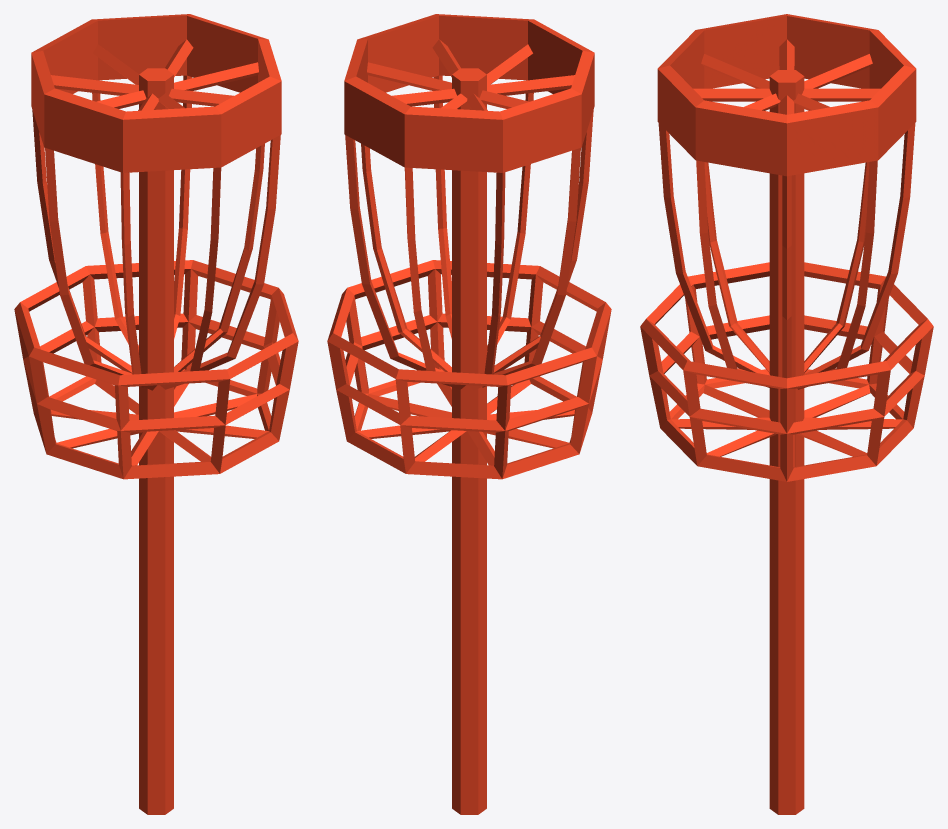
Rendered from SM_Frizbee_Nett_City.fbx.
3 views of the same model, side by side, from view 1: azimuth 30°, elevation 25°; view 2: azimuth 150°, elevation 25°; view 3: azimuth 270°, elevation 25° (orthographic).
Visible parts, largest first — view 1: SM_Frizbee_Nett_City; view 2: SM_Frizbee_Nett_City; view 3: SM_Frizbee_Nett_City.
Part boxes in pixels (x1,y1,x2,y2): SM_Frizbee_Nett_City: (14,14,298,814); SM_Frizbee_Nett_City: (327,14,611,814); SM_Frizbee_Nett_City: (640,14,933,814).
Size of the model in its own units: 0.6261 by 1.75 by 0.6261.
